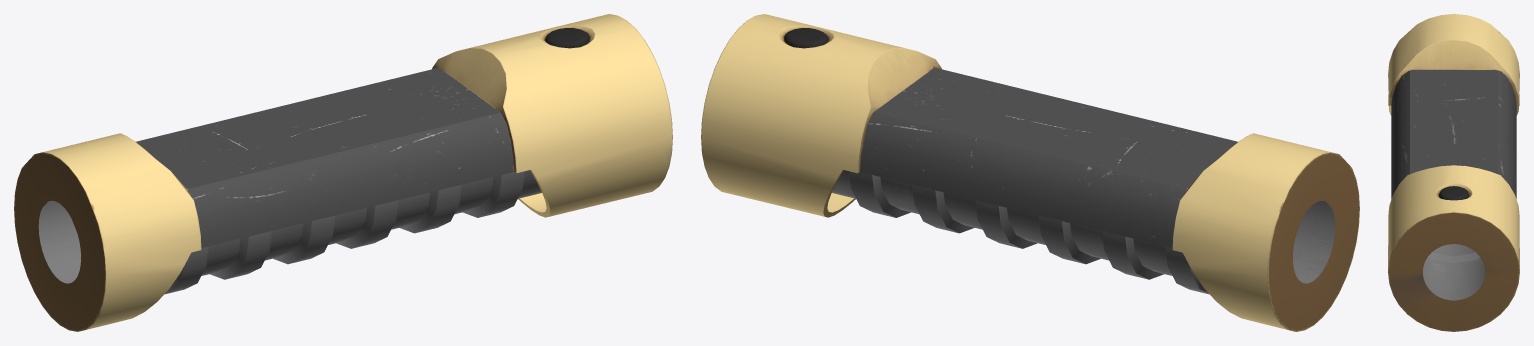
File: grip_17_r_b.glb
3 renders of one model, left to right at view 1: azimuth 30°, elevation 25°; view 2: azimuth 150°, elevation 25°; view 3: azimuth 270°, elevation 25°, orthographic. The views are drawn at different scales.
Parts seen in each view (by area): view 1: grip_17_r_b_lod0; view 2: grip_17_r_b_lod0; view 3: grip_17_r_b_lod0.
Part boxes in pixels (x1=…): grip_17_r_b_lod0: x1=14, y1=14, x2=672, y2=331; grip_17_r_b_lod0: x1=701, y1=14, x2=1359, y2=331; grip_17_r_b_lod0: x1=1388, y1=14, x2=1519, y2=331.
Size of what is drawn, in the model's own units: 0.1045 by 0.0293 by 0.0293.
1 material, 1 textured.
